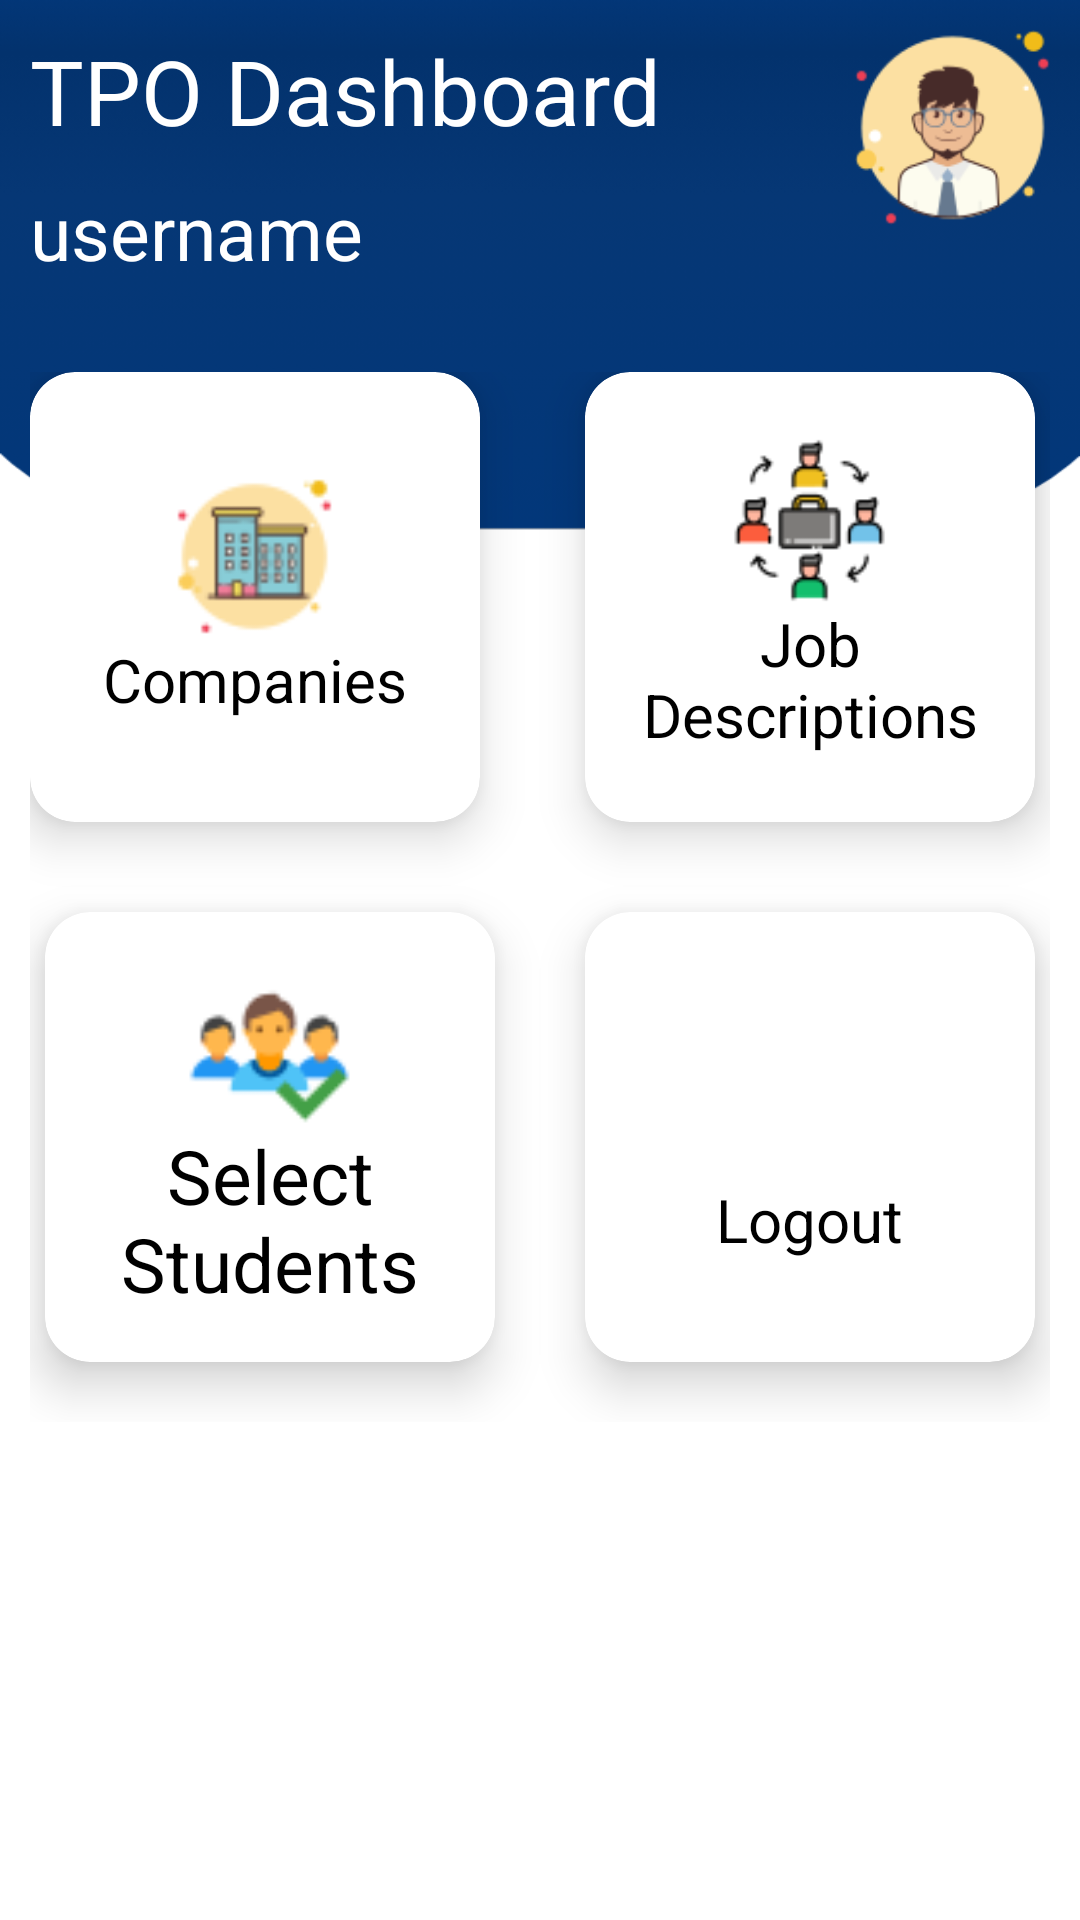

Locate icon controls on the screen. Image size 1080 x 1920, boxes as (x1, y1, x2, y2).
admin tpo: (855, 30, 1049, 224)
